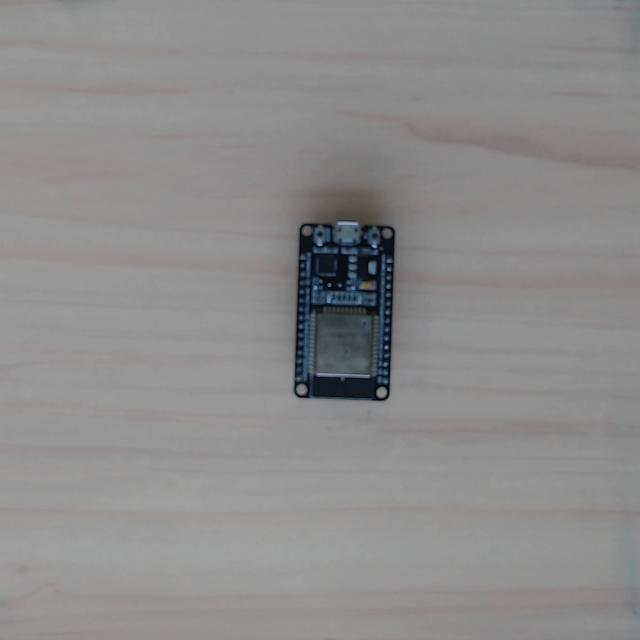ESP32-DevKit: (292, 219, 395, 400)
